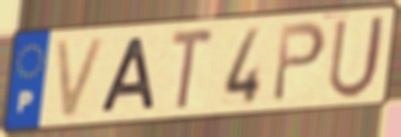4: (221, 25, 264, 107)
A: (98, 34, 159, 116)
P: (269, 19, 329, 106)
T: (169, 25, 217, 115)
U: (325, 12, 389, 102)
V: (53, 33, 110, 123)
